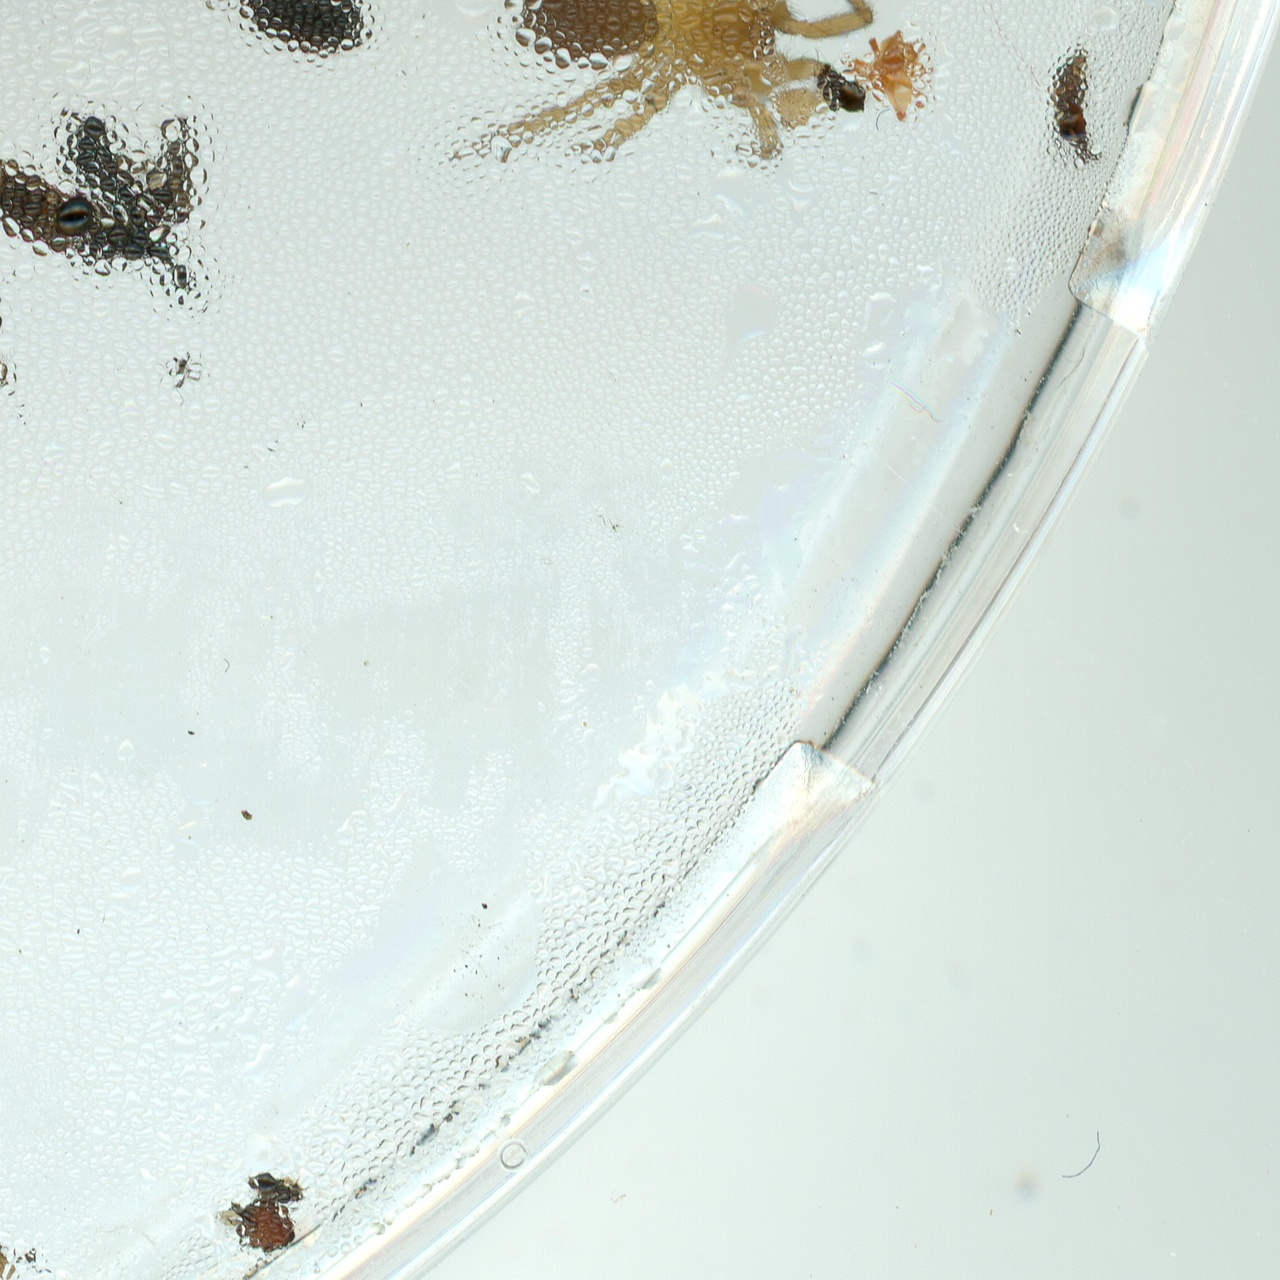arthropod: (420, 0, 879, 179), (839, 29, 939, 125), (1046, 41, 1107, 169)
